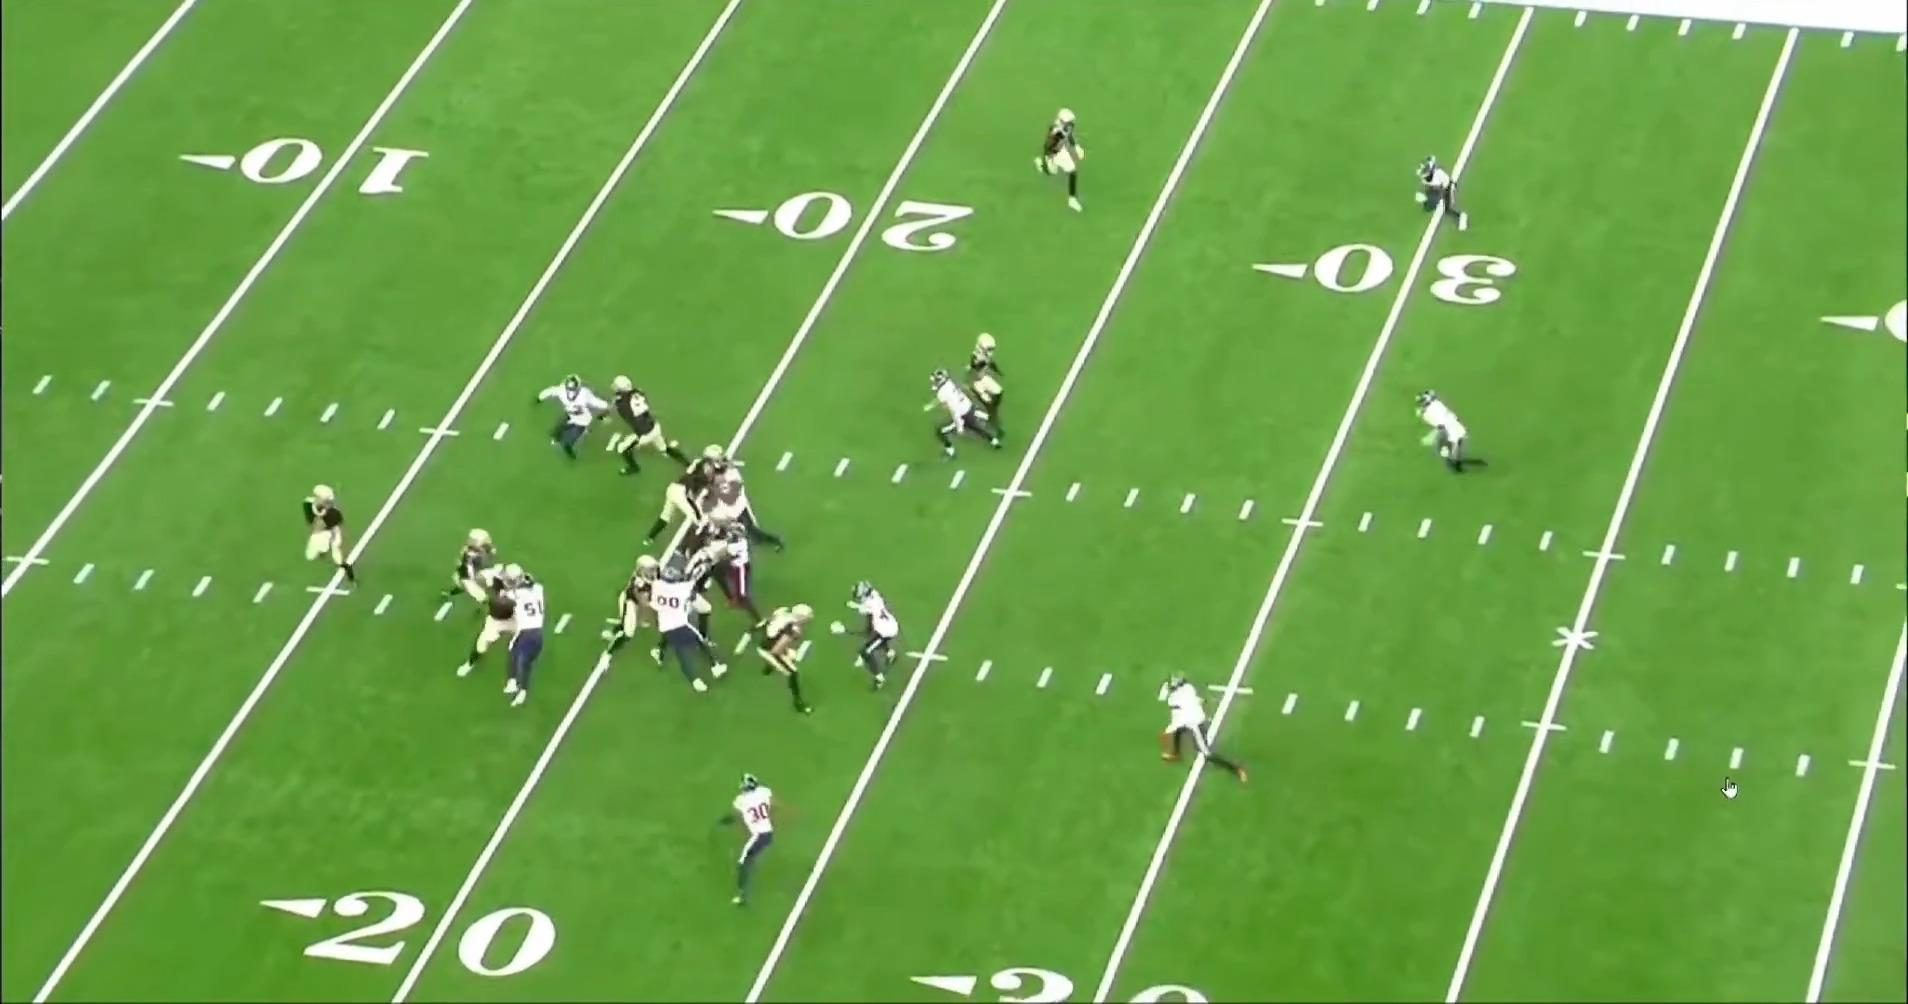defense: (1155, 667, 1248, 786), (692, 452, 785, 554), (715, 771, 780, 913), (649, 574, 722, 699), (491, 574, 548, 715), (926, 366, 1006, 463), (839, 581, 900, 699), (538, 373, 609, 468), (1411, 387, 1481, 482), (710, 511, 767, 628), (1410, 151, 1466, 232)
oline: (450, 568, 533, 686), (640, 445, 728, 554), (606, 372, 693, 481), (669, 537, 727, 651), (668, 508, 739, 566)
qb: (290, 483, 357, 597)
skill: (596, 552, 666, 665), (753, 603, 814, 724), (429, 526, 497, 624), (1031, 107, 1090, 218), (965, 332, 1018, 453)
